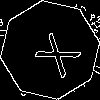X: (25, 25, 82, 79)
